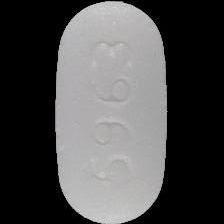0093-5963: (0, 0, 224, 224)
